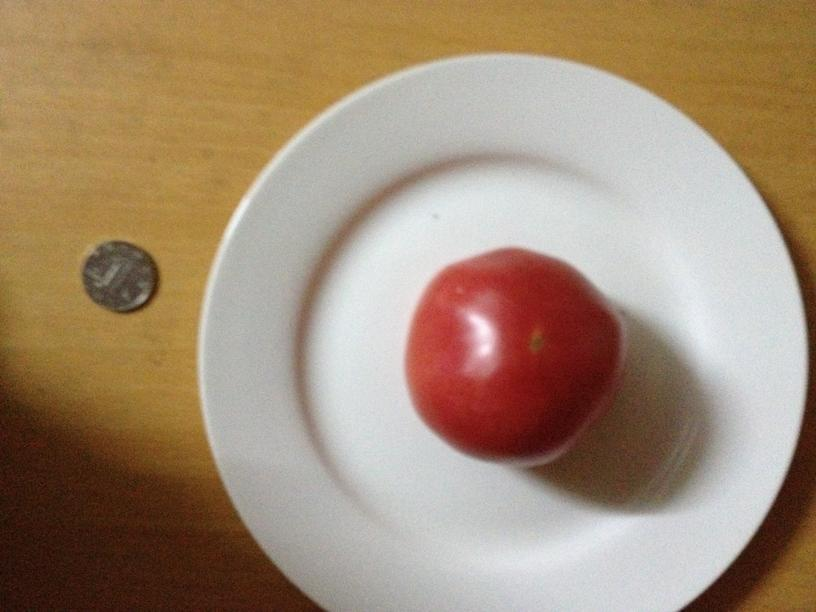coin: (77, 240, 158, 312)
tomato: (400, 248, 623, 464)
